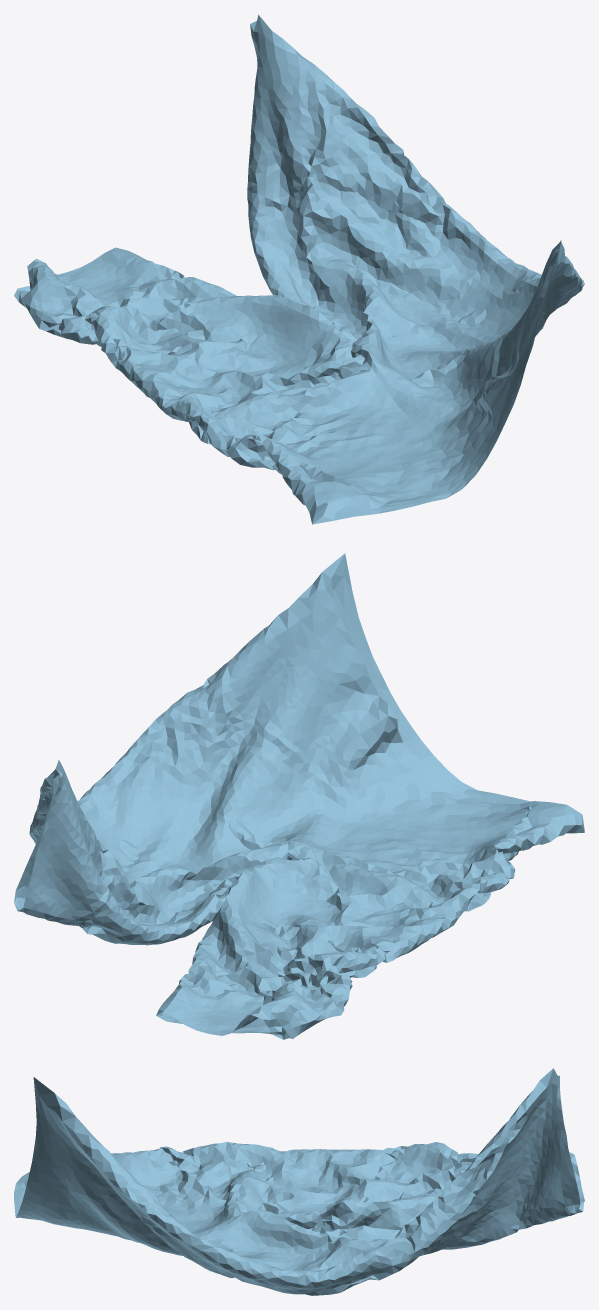
The model's file is frame_08.glb.
3 renders of one model, top to bottom at view 1: azimuth 30°, elevation 25°; view 2: azimuth 150°, elevation 25°; view 3: azimuth 270°, elevation 25°, orthographic. The views are drawn at different scales.
Parts seen in each view (by area): view 1: frame_08.obj; view 2: frame_08.obj; view 3: frame_08.obj.
Part boxes in pixels (x1,y1,x2,y2): frame_08.obj: [14, 14, 584, 524]; frame_08.obj: [14, 553, 584, 1039]; frame_08.obj: [14, 1068, 584, 1295].
Bounding box in the file's own units: 1.17 × 0.6814 × 1.74.
